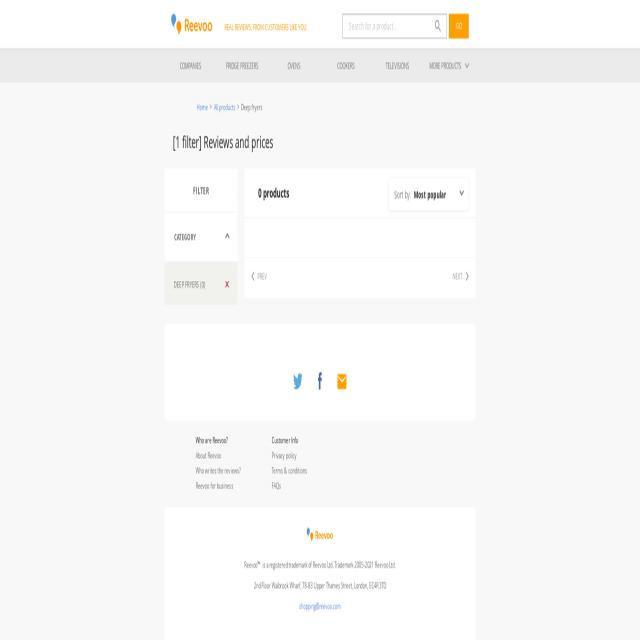button: (165, 210, 237, 261), (165, 166, 238, 209), (164, 263, 237, 304), (388, 178, 469, 212), (164, 49, 217, 83), (216, 49, 268, 83), (268, 49, 320, 83), (320, 49, 372, 83), (423, 49, 475, 83), (372, 49, 423, 83), (168, 9, 216, 41), (304, 519, 337, 550), (449, 14, 469, 38), (334, 367, 349, 397), (291, 367, 305, 393), (314, 367, 326, 395), (433, 16, 442, 35)
field: (343, 14, 447, 38)
